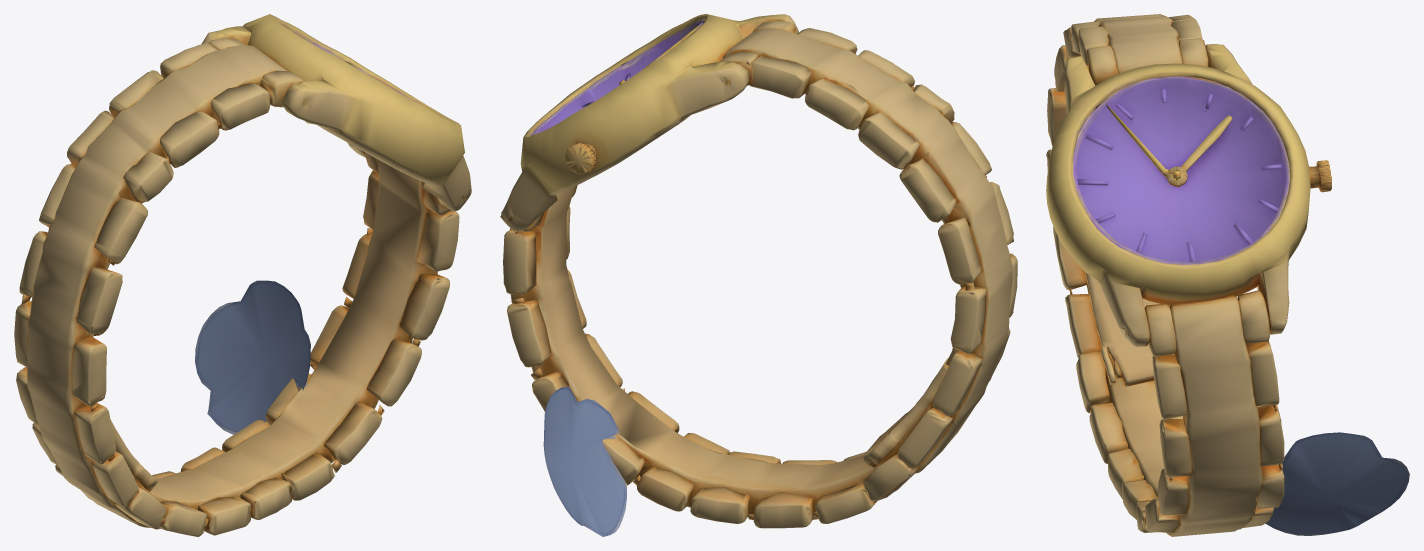
File: r33-watch.glb
The picture shows the model from 3 angles, left to right: view 1: azimuth 30°, elevation 25°; view 2: azimuth 150°, elevation 25°; view 3: azimuth 270°, elevation 25°; orthographic projection. The views are drawn at different scales.
Visible parts, largest first — view 1: tripo_node_0560b729-da72-4d0c-8218-36485d2e66b4; view 2: tripo_node_0560b729-da72-4d0c-8218-36485d2e66b4; view 3: tripo_node_0560b729-da72-4d0c-8218-36485d2e66b4.
Part boxes in pixels (x1,y1,x2,y2): tripo_node_0560b729-da72-4d0c-8218-36485d2e66b4: (14, 14, 471, 536); tripo_node_0560b729-da72-4d0c-8218-36485d2e66b4: (500, 14, 1017, 536); tripo_node_0560b729-da72-4d0c-8218-36485d2e66b4: (1046, 14, 1409, 536).
Size of the model in its own units: 0.998 by 0.998 by 0.7012.
Materials: 1 (1 with a texture image).
